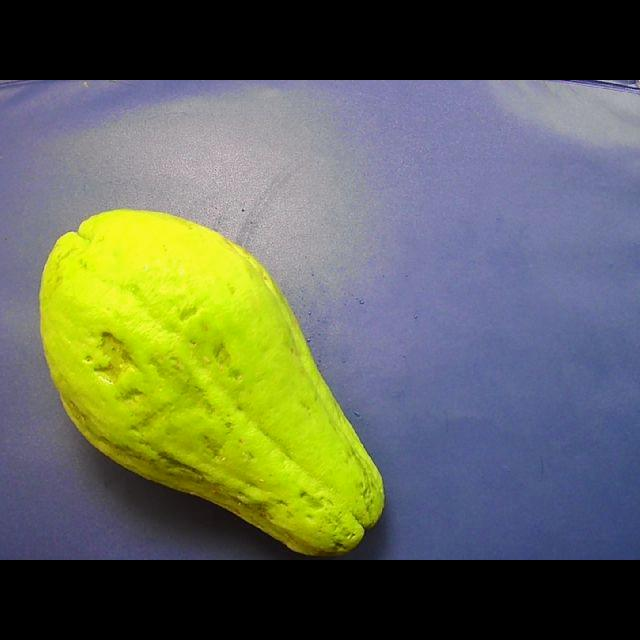chayote: (40, 210, 383, 554)
